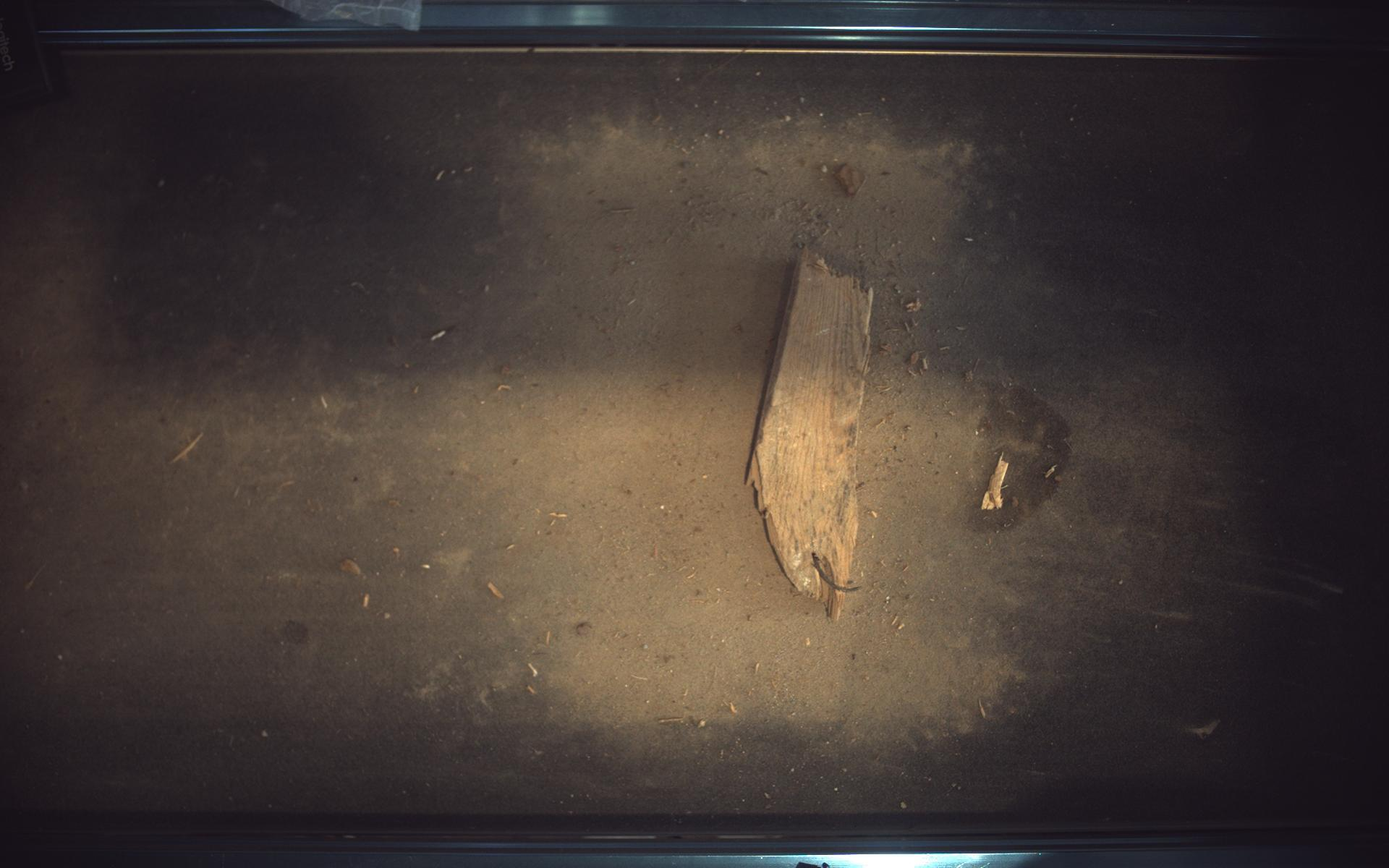wood: (749, 247, 875, 620)
